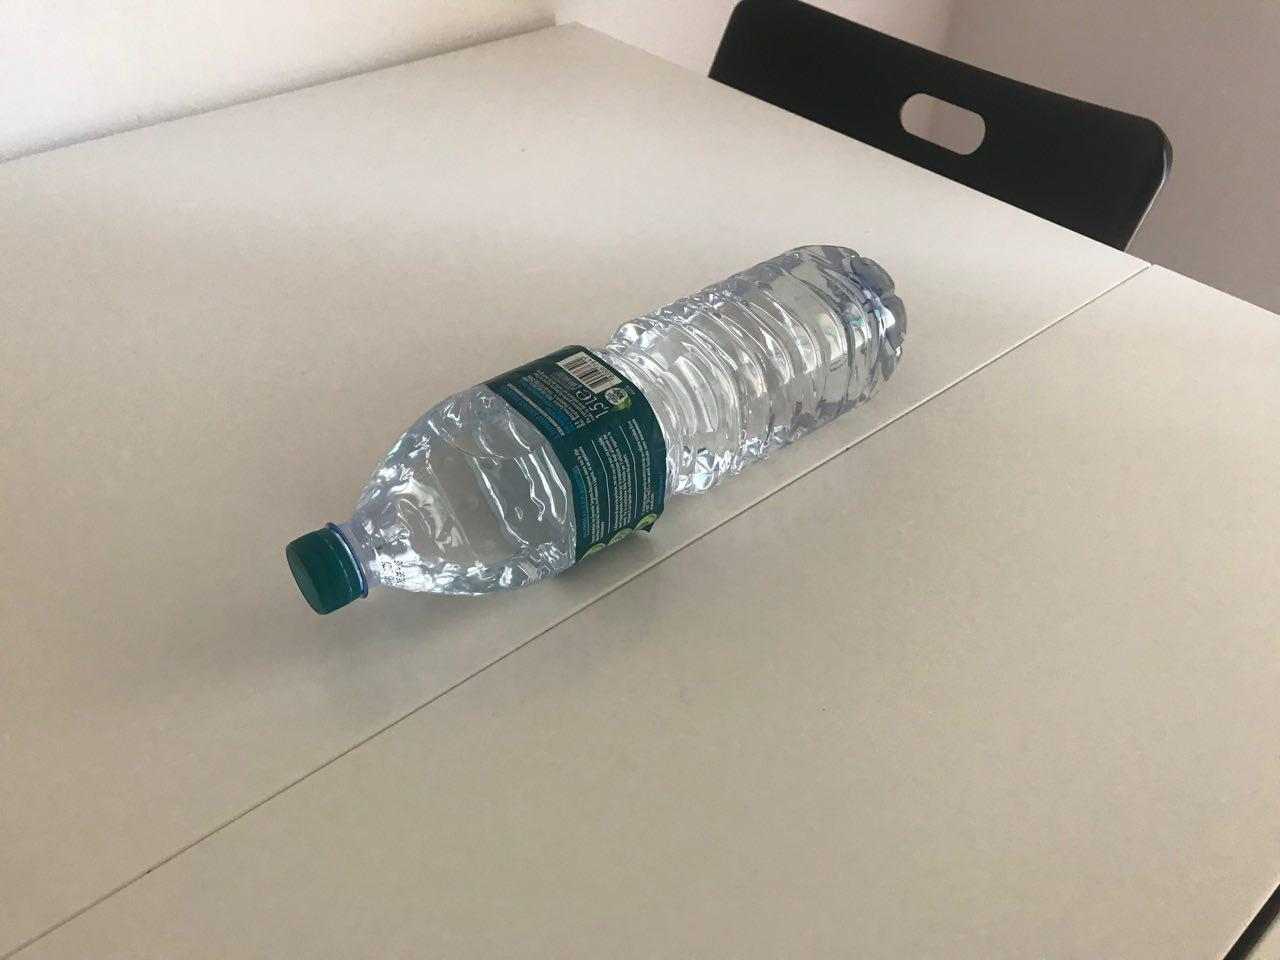san_bernardo: (285, 244, 908, 616)
